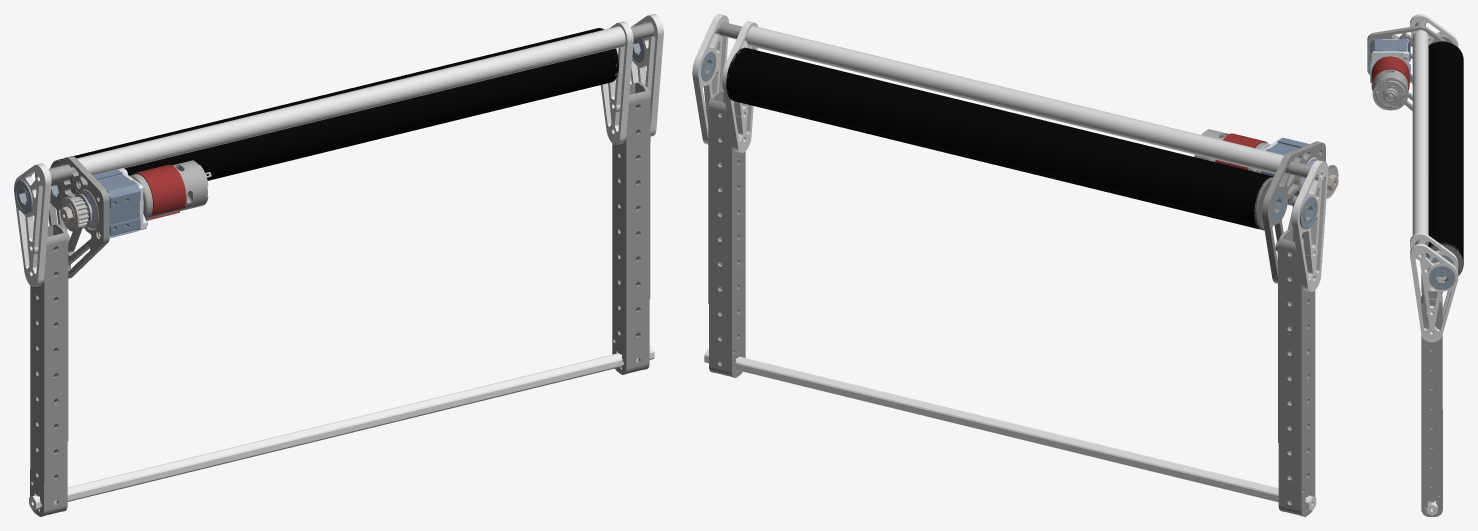
3 renders of one model, left to right at view 1: azimuth 30°, elevation 25°; view 2: azimuth 150°, elevation 25°; view 3: azimuth 270°, elevation 25°, orthographic. The views are drawn at different scales.
Visible parts, largest first — view 1: 6328-23-P-0504 (×2), 6328-23-P-0514 (×2), 6328-23-P-0508, 6328-23-P-0512, 6328-23-P-0506 (×3), 775 Redline Motor (am-3775a), 6328-23-P-0503, am-XXXX - 57 Sport 1 Stage Ring Gear Housing, 18t 9mm Wide 1/2" Hex Bore Double Flange 5mm HTD Aluminum Pu; view 2: 6328-23-P-0514 (×2), 6328-23-P-0504 (×2), 6328-23-P-0508, 6328-23-P-0512, 6328-23-P-0506 (×3), 6328-23-P-0503, 775 Redline Motor (am-3775a); view 3: 6328-23-P-0514 (×2), 6328-23-P-0504, 6328-23-P-0508, 6328-23-P-0506 (×3), 775 Redline Motor (am-3775a), 6328-23-P-0503, am-XXXX - 57 Sport 1 Stage Ring Gear Housing, .5" Hex ID 1.125" OD Flanged Bearing (217-2734), am-3765 - 57 Sport Motor Block, Part 19, 6328-23-P-0512.
Part boxes in pixels (x1,y1,x2,y2): 6328-23-P-0504 (×2): [30, 82, 650, 516]; 6328-23-P-0514 (×2): [59, 28, 618, 180]; 6328-23-P-0508: [77, 26, 625, 174]; 6328-23-P-0512: [29, 345, 654, 510]; 6328-23-P-0506 (×3): [14, 14, 663, 286]; 775 Redline Motor (am-3775a): [130, 160, 211, 220]; 6328-23-P-0503: [49, 156, 109, 278]; am-XXXX - 57 Sport 1 Stage Ring Gear Housing: [92, 169, 140, 237]; 18t 9mm Wide 1/2" Hex Bore Double Flange 5mm HTD Aluminum Pu: [60, 193, 91, 231]; 6328-23-P-0514 (×2): [726, 47, 1273, 229]; 6328-23-P-0504 (×2): [708, 91, 1315, 516]; 6328-23-P-0508: [747, 26, 1284, 173]; 6328-23-P-0512: [704, 349, 1316, 510]; 6328-23-P-0506 (×3): [692, 14, 1328, 291]; 6328-23-P-0503: [1262, 141, 1325, 283]; 775 Redline Motor (am-3775a): [1194, 129, 1270, 172]; 6328-23-P-0514 (×2): [1427, 41, 1463, 275]; 6328-23-P-0504: [1421, 290, 1442, 516]; 6328-23-P-0508: [1412, 30, 1428, 245]; 6328-23-P-0506 (×3): [1410, 14, 1458, 342]; 775 Redline Motor (am-3775a): [1371, 55, 1409, 110]; 6328-23-P-0503: [1367, 25, 1445, 110]; am-XXXX - 57 Sport 1 Stage Ring Gear Housing: [1370, 39, 1410, 82]; .5" Hex ID 1.125" OD Flanged Bearing (217-2734): [1429, 265, 1455, 289]; am-3765 - 57 Sport Motor Block: [1371, 51, 1409, 70]; Part 19: [1426, 242, 1462, 280]; 6328-23-P-0512: [1426, 286, 1437, 515].
Bounding box in the file's own units: 0.6509 × 0.3563 × 0.1139.
